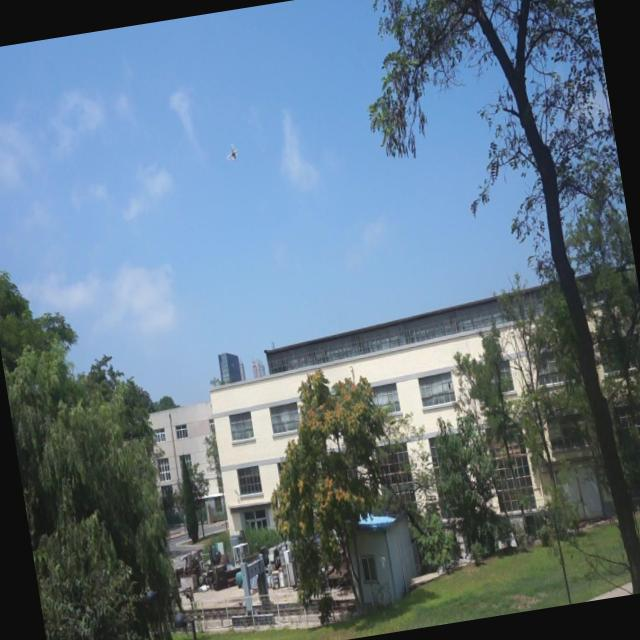drone: (222, 138, 244, 167)
